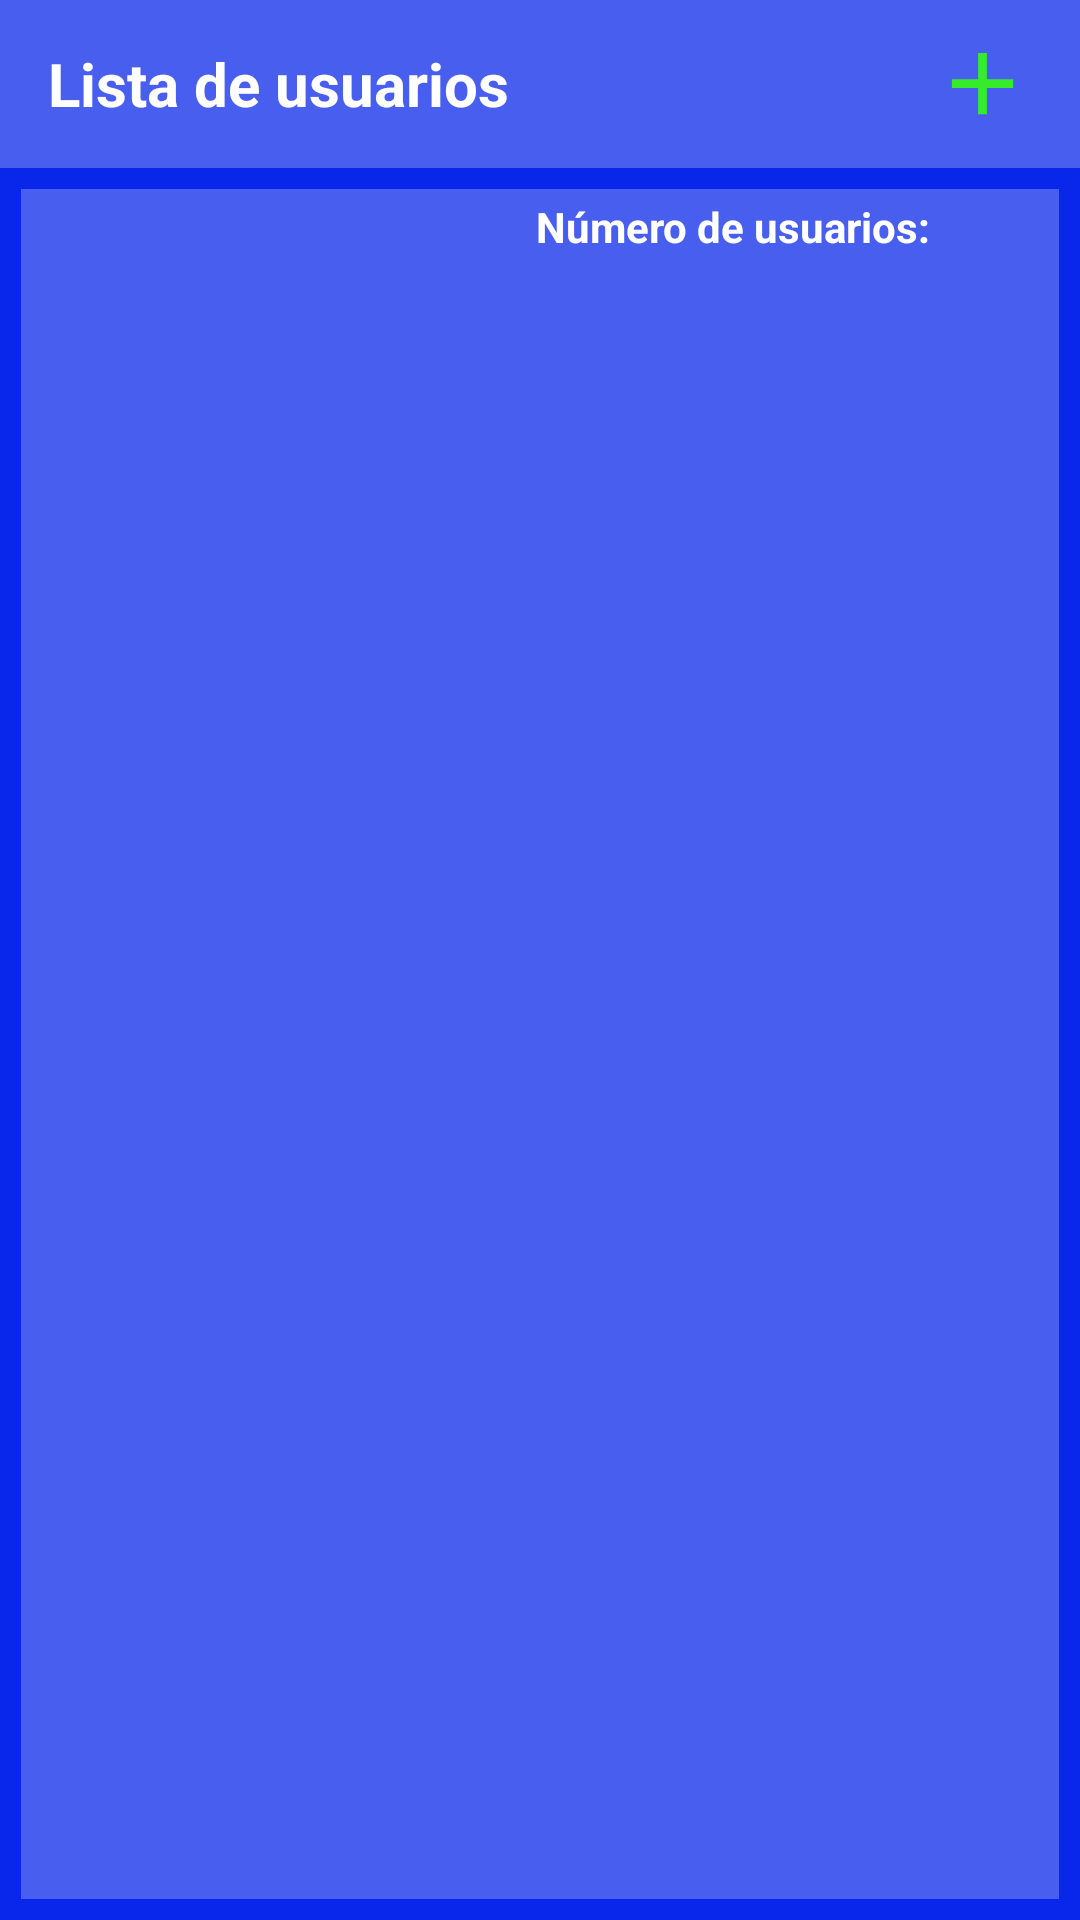

Icon bounding boxes for this 1080w x 1920h phone screenshot, format (x1, y1, x2, y2):
Botón de añadir: (952, 53, 1013, 115)
